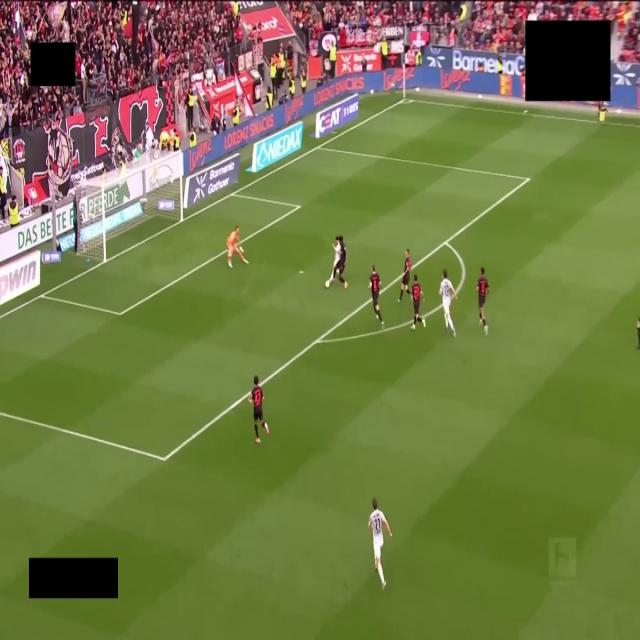ball: (325, 280, 330, 288)
player: (368, 499, 392, 589), (249, 376, 268, 443), (439, 270, 457, 336), (369, 266, 384, 327), (227, 226, 248, 268), (331, 236, 347, 288), (476, 268, 488, 335), (411, 275, 425, 329), (398, 249, 411, 302), (329, 236, 341, 283), (637, 319, 639, 349)
